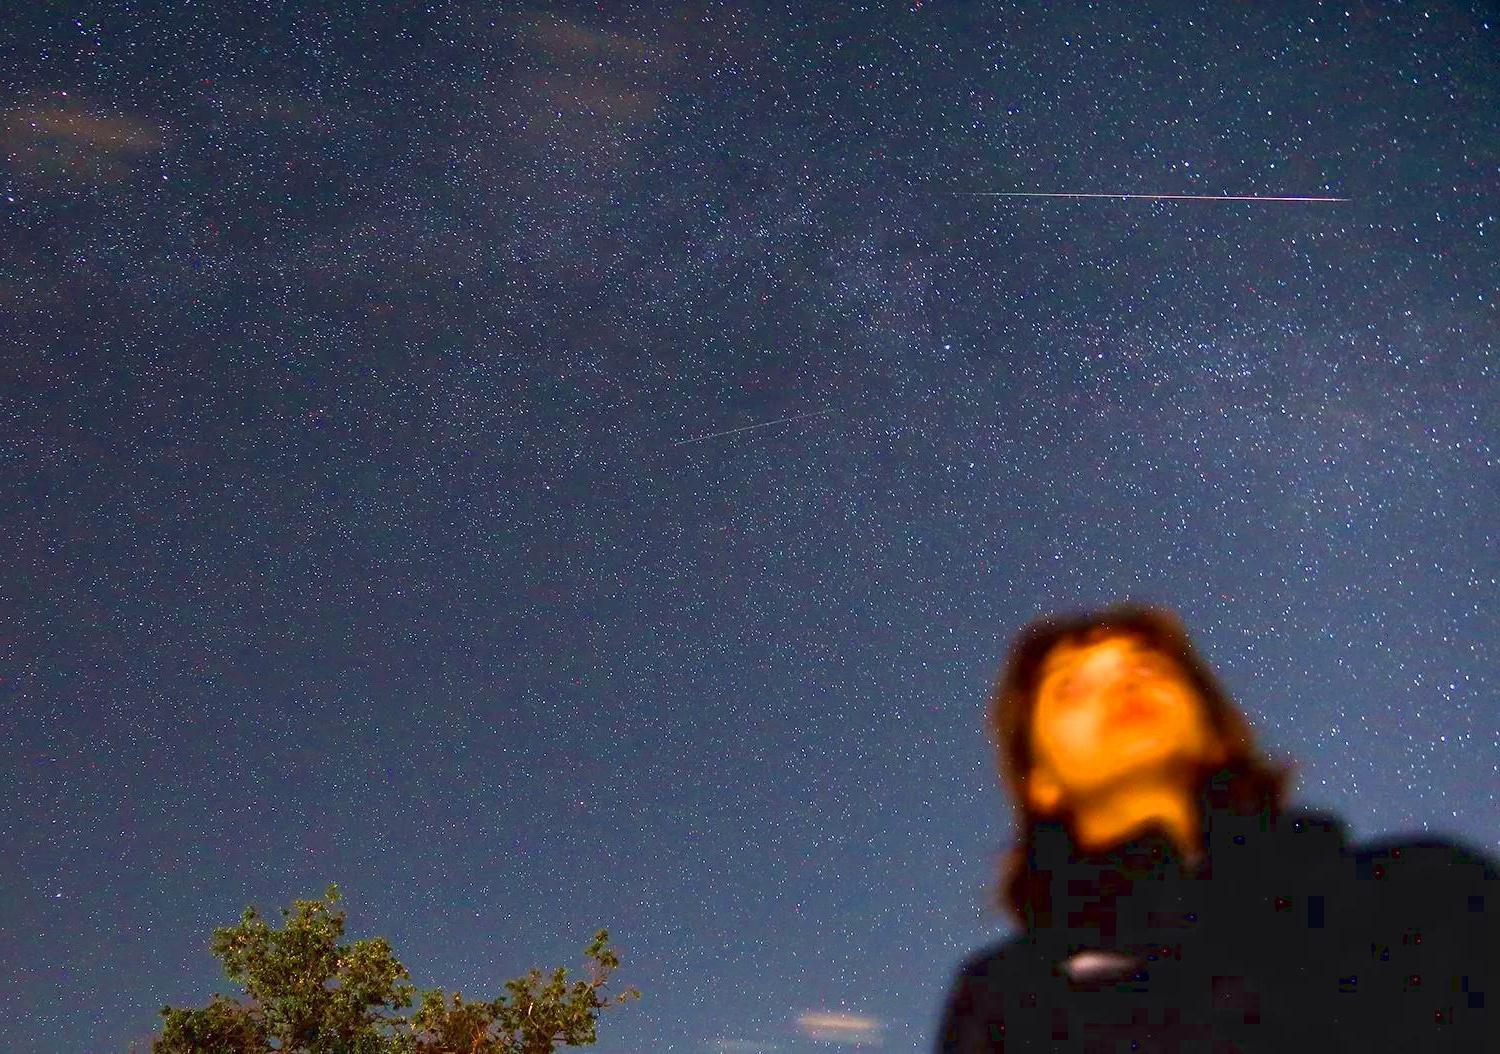meteorite: (946, 177, 1385, 212), (682, 402, 817, 469)
